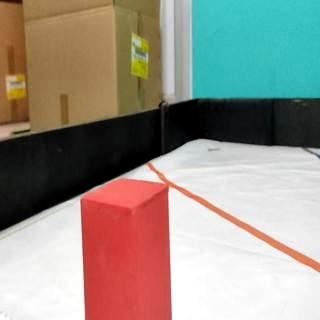redbox: (80, 177, 172, 320)
